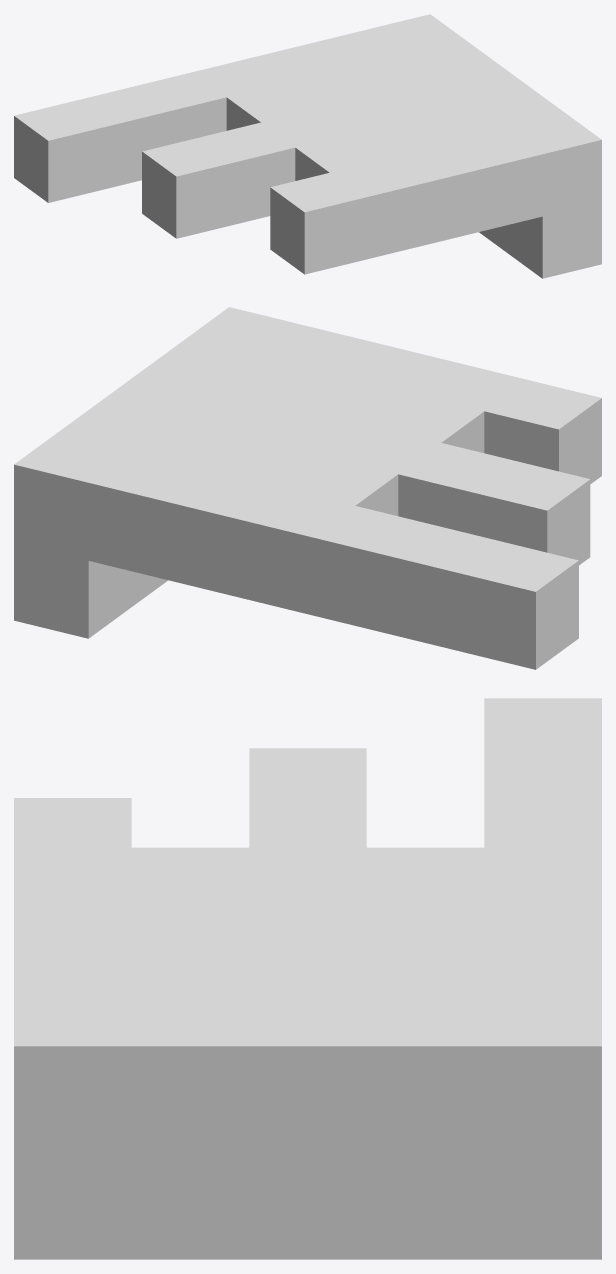
The model's file is birdWings.dae.
3 views of the same model, one above another, from view 1: azimuth 30°, elevation 25°; view 2: azimuth 150°, elevation 25°; view 3: azimuth 270°, elevation 25° (orthographic). The views are drawn at different scales.
Parts seen in each view (by area): view 1: birdWings; view 2: birdWings; view 3: birdWings.
Boxes of the visible parts, x1=… form: birdWings: x1=14, y1=14, x2=601, y2=278; birdWings: x1=14, y1=307, x2=601, y2=669; birdWings: x1=14, y1=698, x2=601, y2=1259.
Bounding box in the file's own units: 0.7 × 0.5 × 0.2.
Materials: 1 (1 with a texture image).
